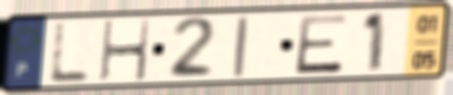1: (361, 11, 389, 75)
2: (169, 15, 219, 83)
E: (292, 12, 351, 76)
H: (98, 17, 153, 84)
I: (230, 15, 251, 80)
L: (46, 21, 93, 85)
